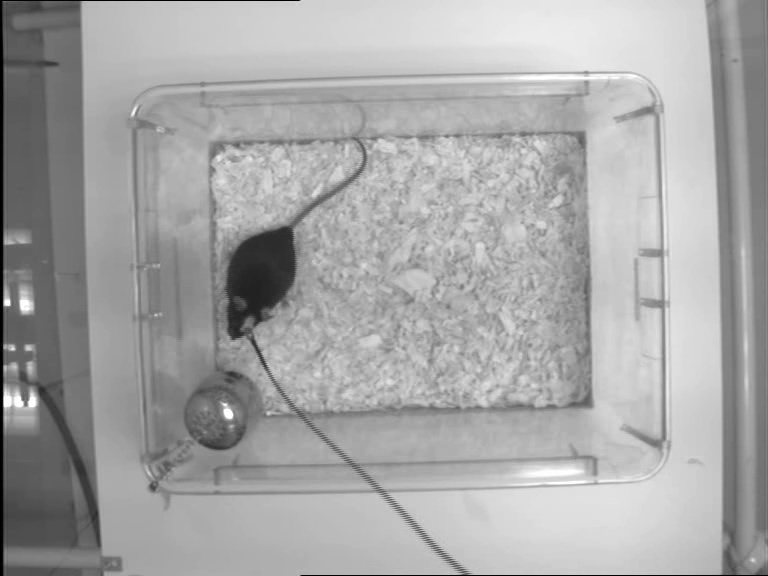mice: (225, 138, 368, 344)
